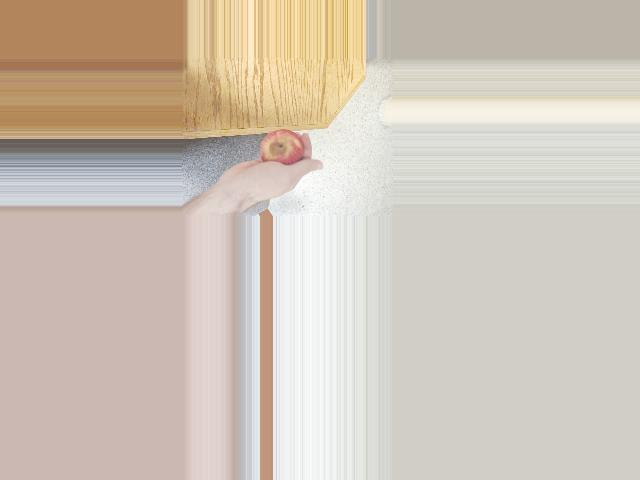apple: (249, 127, 306, 171)
